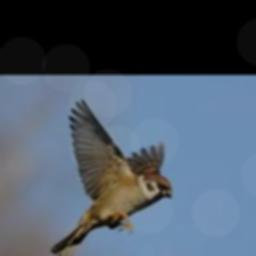Sparrow: (51, 99, 172, 256)
